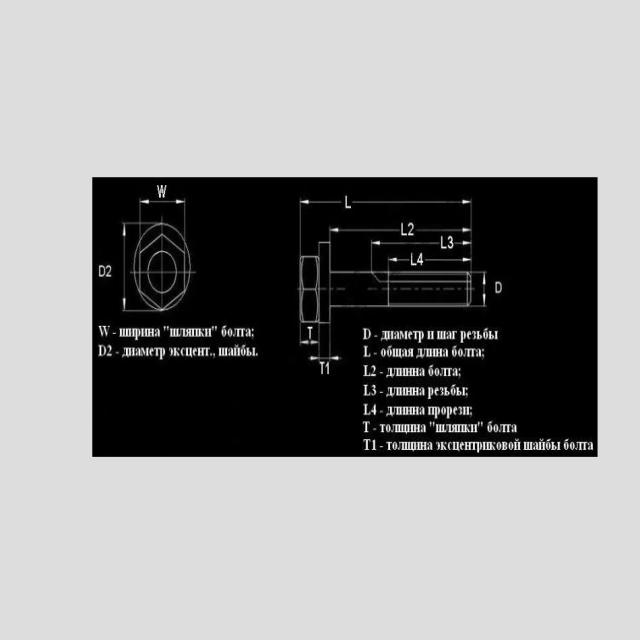marking_line: (368, 236, 474, 272), (354, 196, 472, 227), (326, 220, 473, 240), (297, 324, 341, 376), (297, 199, 343, 240), (296, 196, 329, 242), (386, 255, 474, 271), (294, 199, 318, 255), (139, 196, 187, 223), (121, 219, 134, 312), (471, 271, 488, 308), (299, 324, 320, 348)
numeric: (416, 250, 424, 267), (447, 234, 455, 250), (406, 220, 414, 236), (106, 264, 112, 278), (371, 365, 378, 377), (326, 360, 331, 376), (371, 403, 377, 416), (371, 384, 377, 396), (372, 440, 377, 451)
